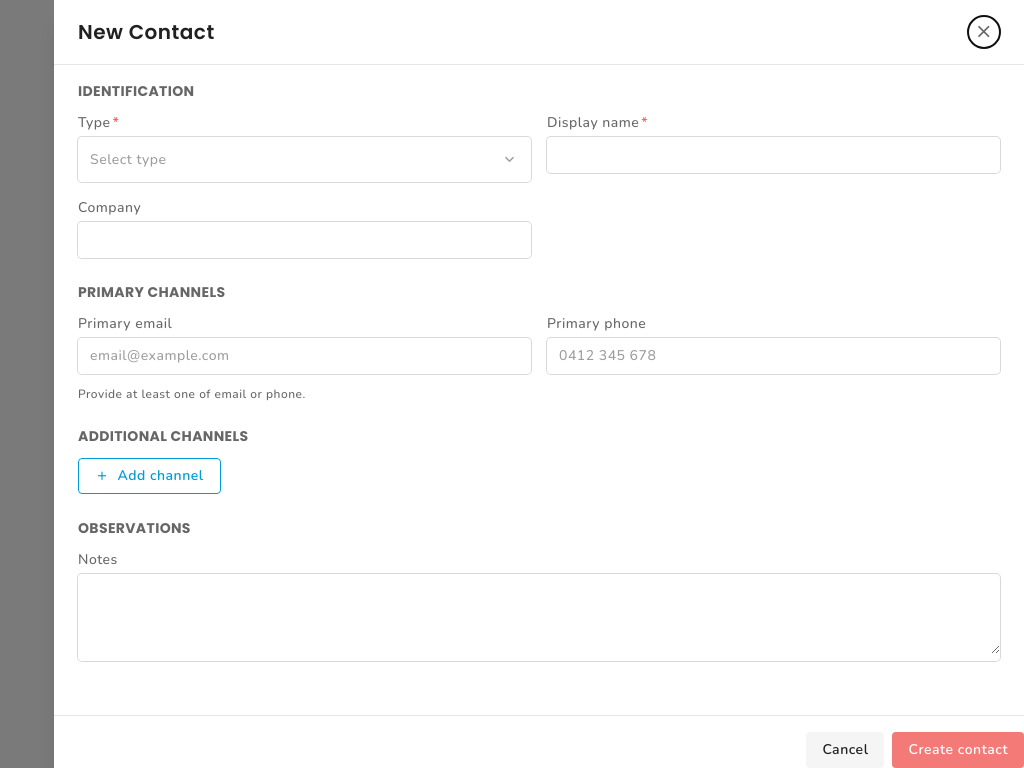
Test case: ContactFormDrawer — per-row channel errors › shows a validation error under the offending channel row
Click the button with aria-label "Add additional channel".
click(149, 476)  # box [78,458,220,494]
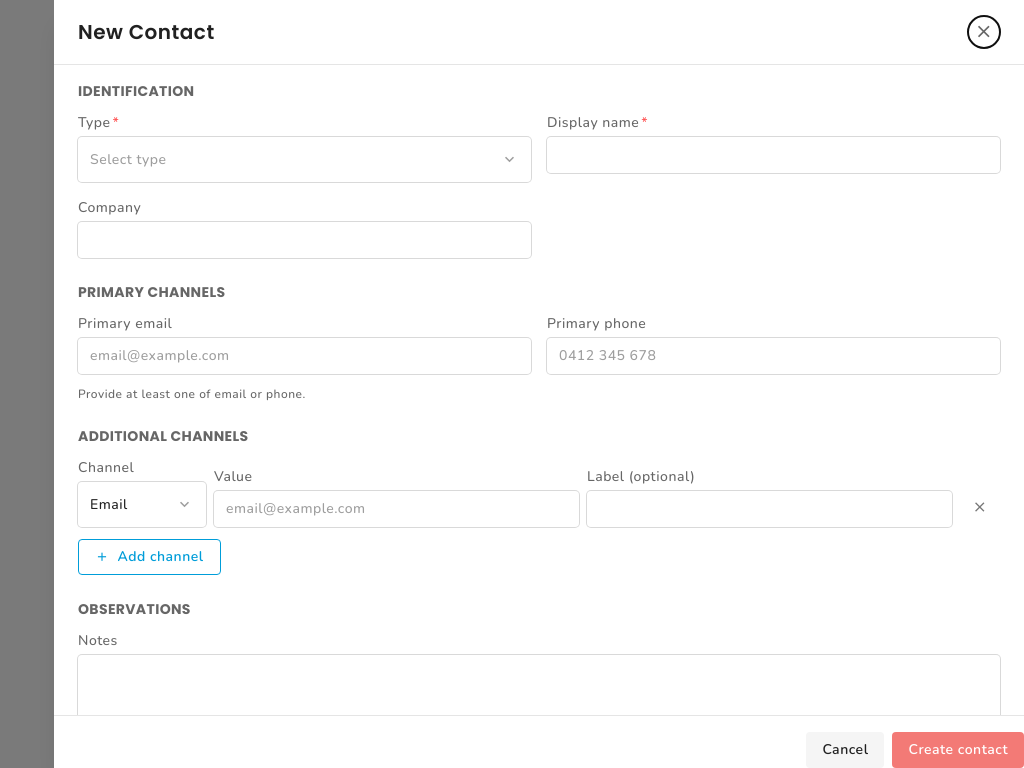
Click the button with aria-label "Add additional channel".
click(149, 557)  # box [78,539,220,575]
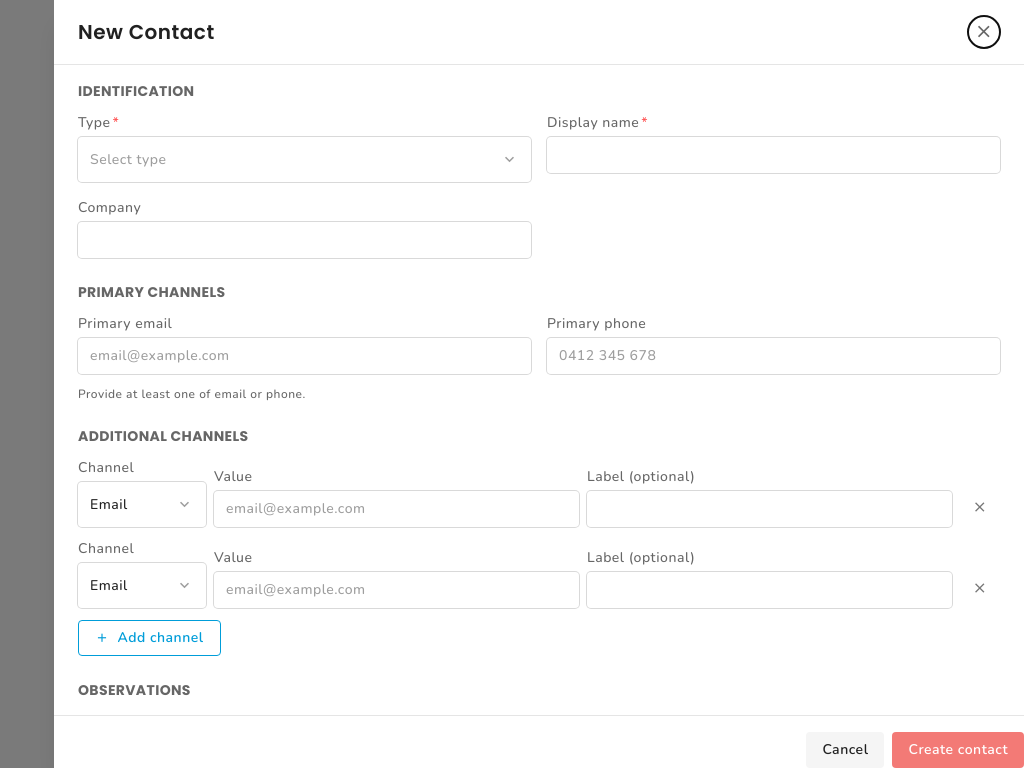
Click the button "Create contact".
click(958, 750)  # box [892,732,1023,767]
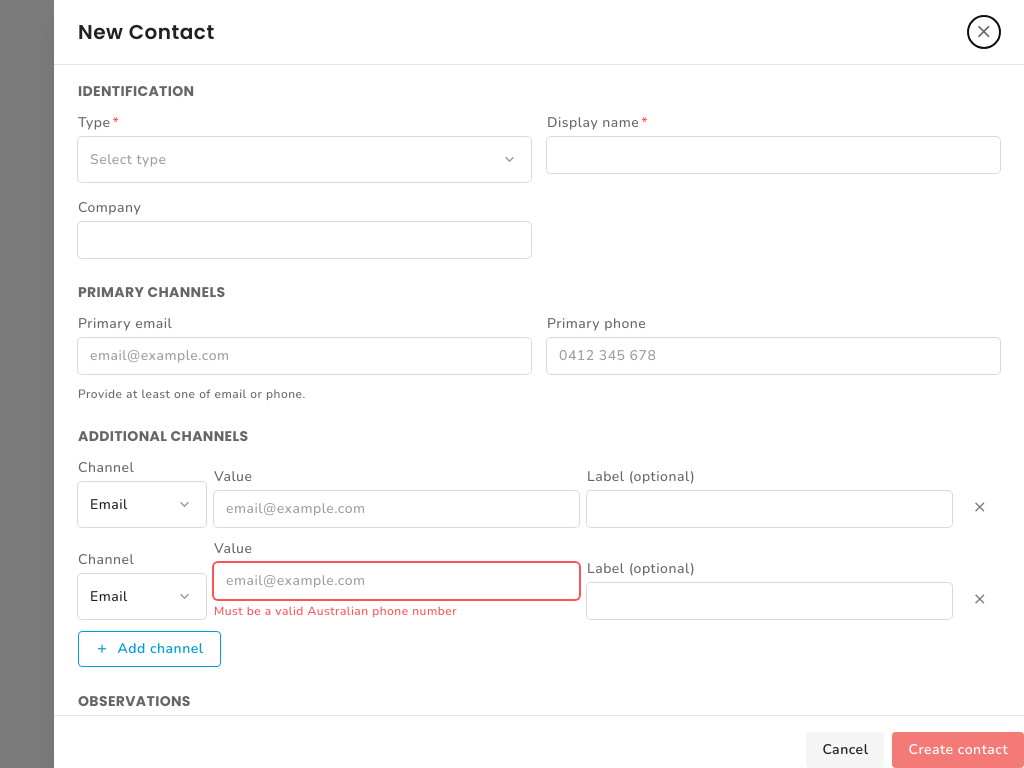
Now the text "Must be a valid Australian phone number" is shown, box [214,603,457,619]
